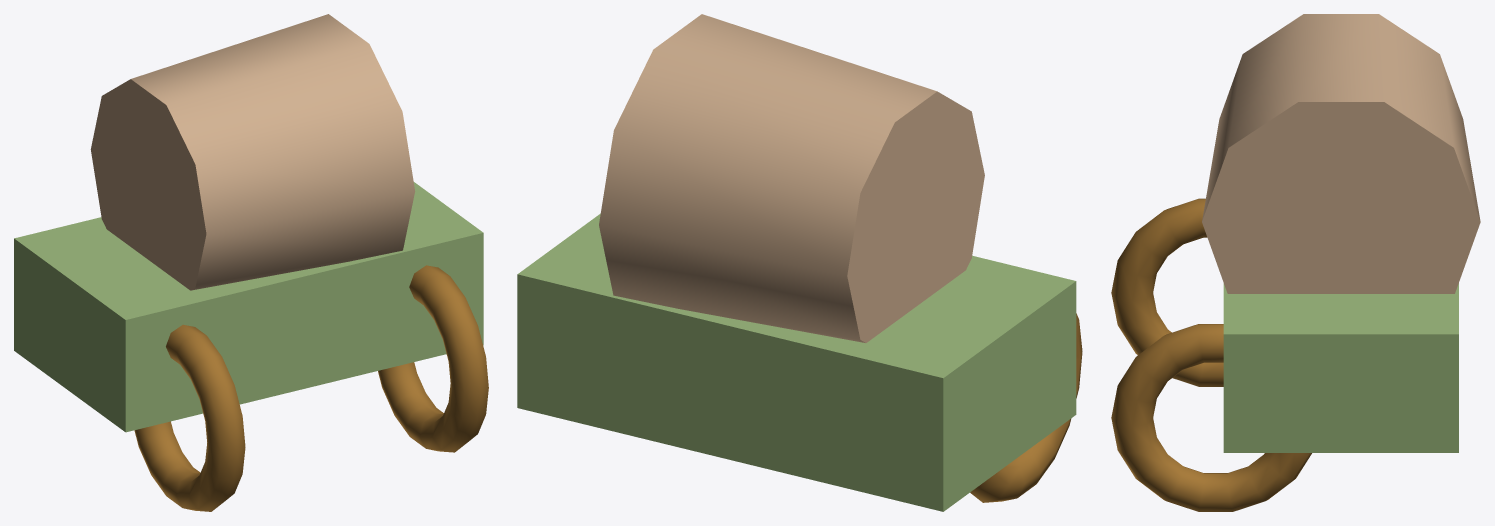
The model's file is hay_cart.glb.
The picture shows the model from 3 angles, left to right: view 1: azimuth 30°, elevation 25°; view 2: azimuth 150°, elevation 25°; view 3: azimuth 270°, elevation 25°; orthographic projection. The views are drawn at different scales.
Visible parts, largest first — view 1: load, cart_body, wheel_085, wheel_-085; view 2: load, cart_body, wheel_-085; view 3: load, cart_body, wheel_085, wheel_-085.
Boxes of the visible parts, x1,y1,x2,y2 form: load: [90, 14, 415, 290]; cart_body: [14, 182, 483, 432]; wheel_085: [378, 265, 488, 452]; wheel_-085: [134, 324, 245, 511]; load: [599, 14, 984, 342]; cart_body: [517, 213, 1076, 511]; wheel_-085: [970, 313, 1082, 502]; load: [1202, 14, 1480, 293]; cart_body: [1223, 283, 1458, 452]; wheel_085: [1111, 324, 1311, 511]; wheel_-085: [1111, 198, 1223, 386].
Size of what is drawn, in the model's own units: 2.5 by 2.52 by 2.12.
